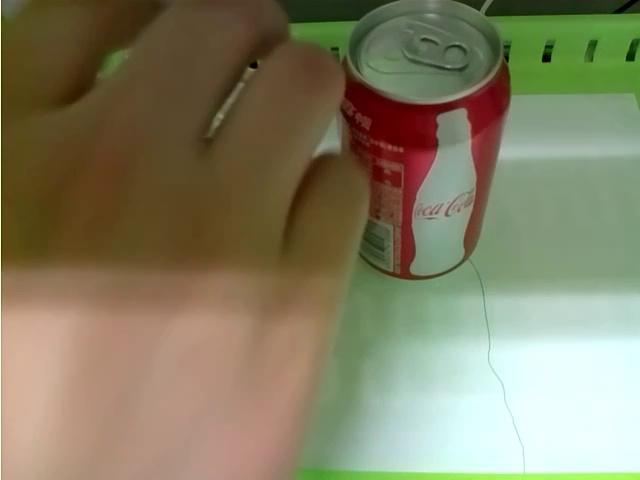cocacola: (339, 3, 511, 277)
hand: (1, 1, 364, 471)
